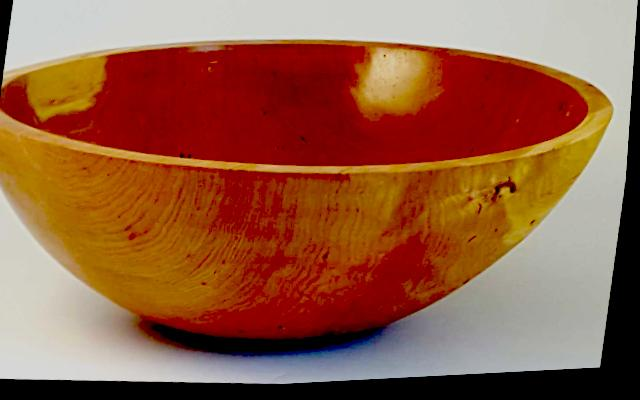Bowl: (0, 41, 612, 342)
